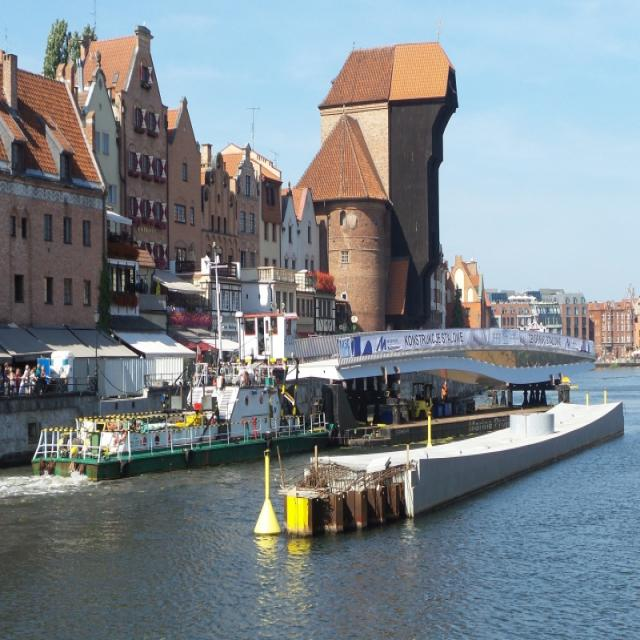tugboat: (28, 309, 339, 490)
